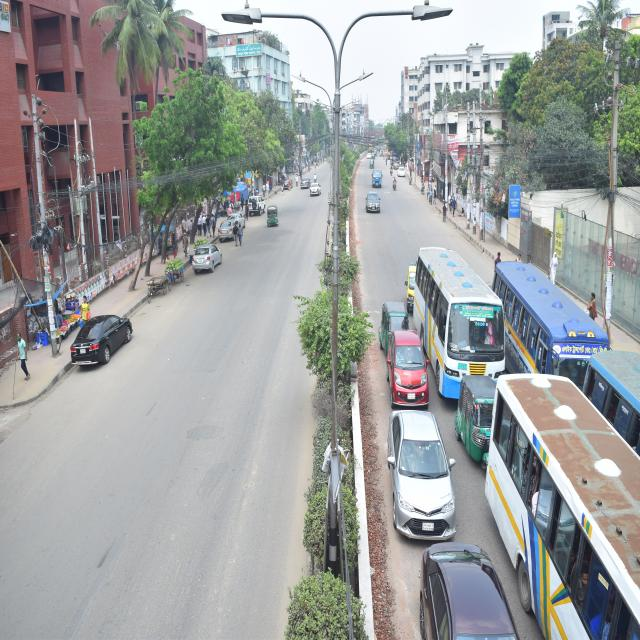bus: (489, 330, 640, 634), (484, 230, 616, 404), (413, 230, 518, 408), (586, 297, 640, 449)
car: (413, 521, 533, 640), (383, 385, 469, 548), (69, 282, 145, 394), (380, 310, 441, 420), (182, 236, 232, 288), (211, 211, 241, 264), (240, 180, 265, 227), (361, 183, 386, 230), (224, 204, 250, 238), (278, 166, 294, 198), (299, 174, 317, 196), (309, 181, 324, 206), (394, 161, 409, 181), (362, 148, 374, 161)
motorbike: (393, 167, 401, 200)
pickup-van: (402, 246, 420, 318), (372, 166, 384, 192)
